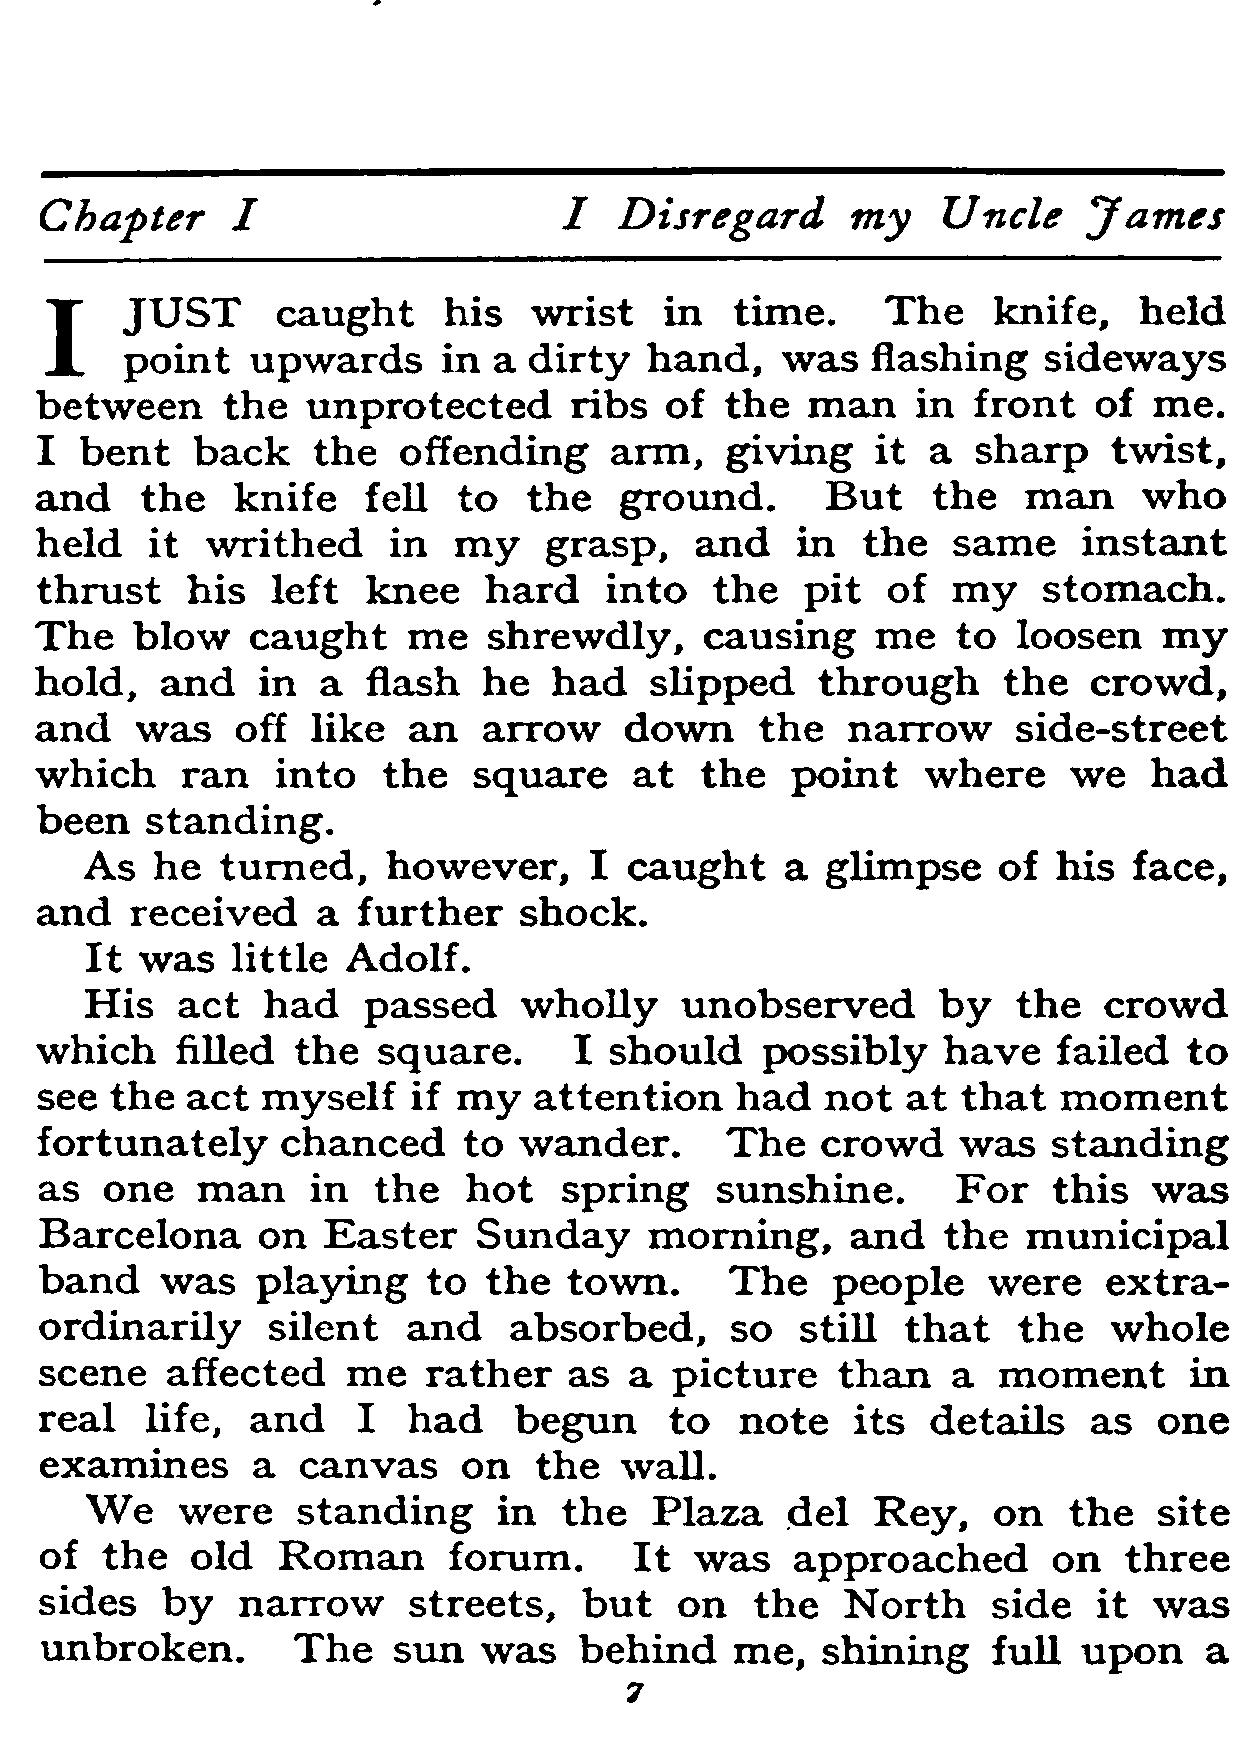chapter: (38, 193, 1224, 247)
content: (32, 289, 1231, 1676)
content_pagenumber: (621, 1678, 645, 1710)
